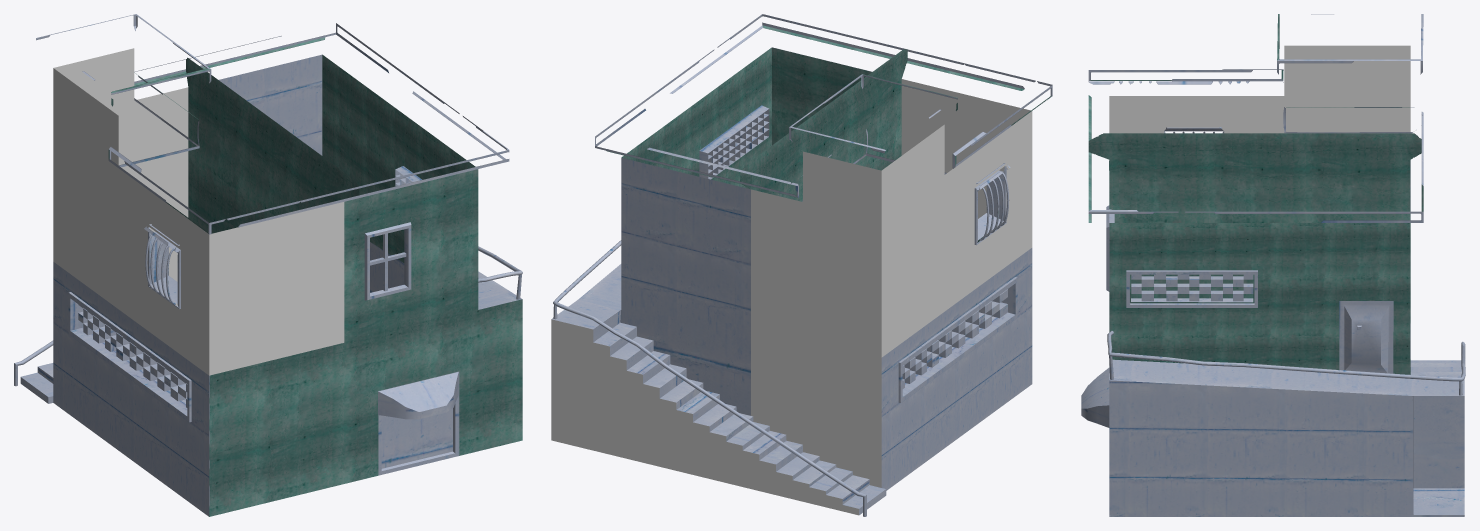
File: edificios.fbx
The picture shows the model from 3 angles, left to right: view 1: azimuth 30°, elevation 25°; view 2: azimuth 150°, elevation 25°; view 3: azimuth 270°, elevation 25°; orthographic projection. The views are drawn at different scales.
Visible parts, largest first — view 1: edificio1.001; view 2: edificio1.001; view 3: edificio1.001.
Boxes of the visible parts, <box> form: edificio1.001: <box>14,14,522,516</box>; edificio1.001: <box>551,14,1052,516</box>; edificio1.001: <box>1081,14,1465,516</box>.
Bounding box in the file's own units: 1091 × 1161 × 1148.
Materials: 2 (1 with a texture image).
